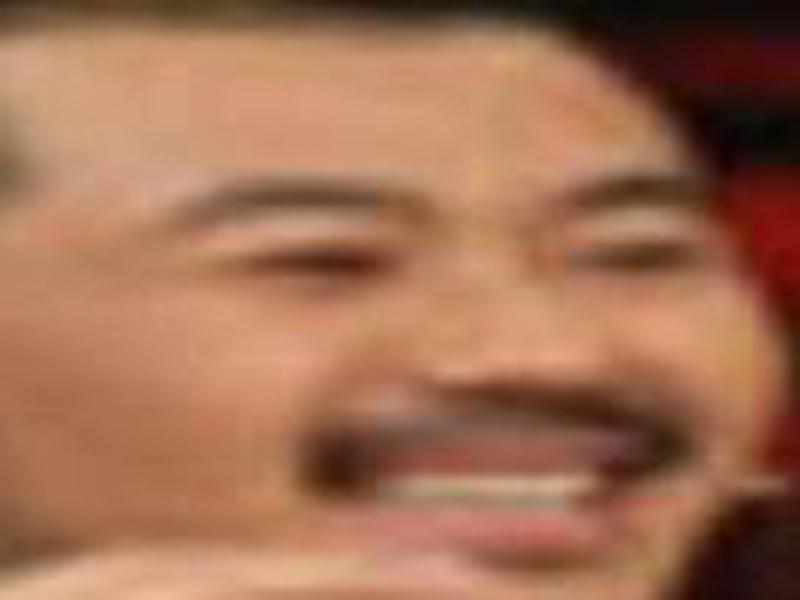without_mask: (6, 10, 782, 597)
